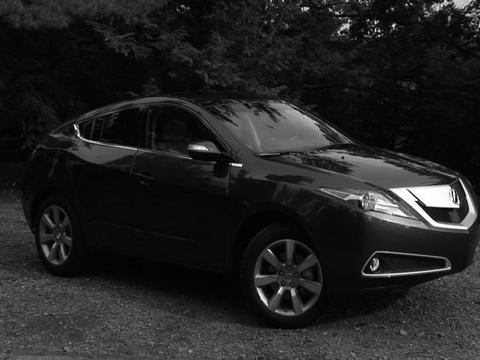car: (21, 93, 479, 331)
